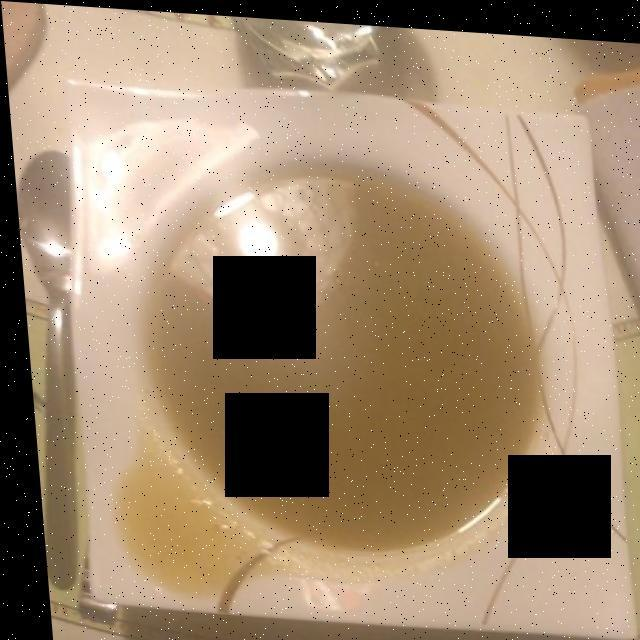soup: (130, 151, 515, 567)
